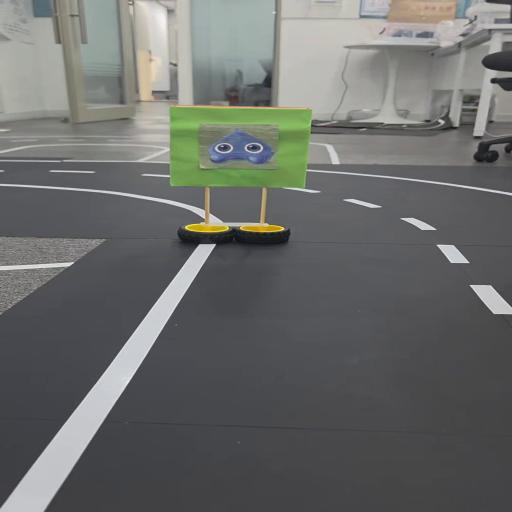Sign_B: (168, 94, 319, 250)
